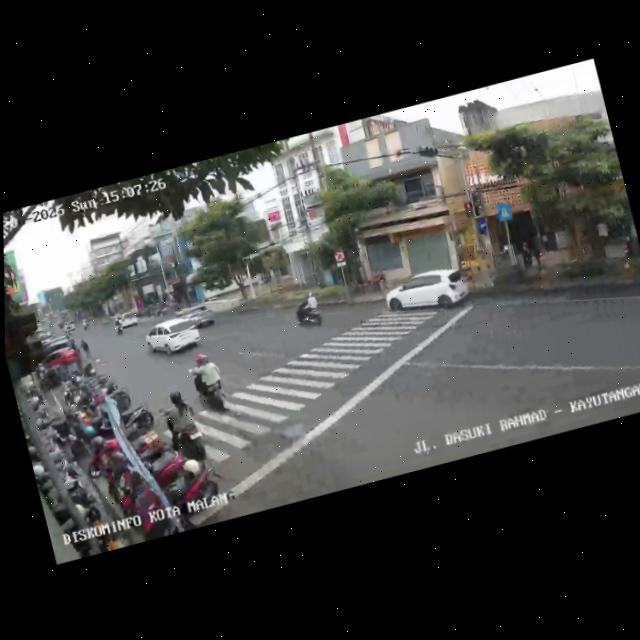car: (381, 260, 472, 329), (32, 332, 92, 387), (141, 311, 203, 361), (176, 302, 217, 335), (110, 307, 144, 334)
motorcycle: (161, 387, 208, 464), (187, 348, 232, 416), (289, 287, 325, 330)
